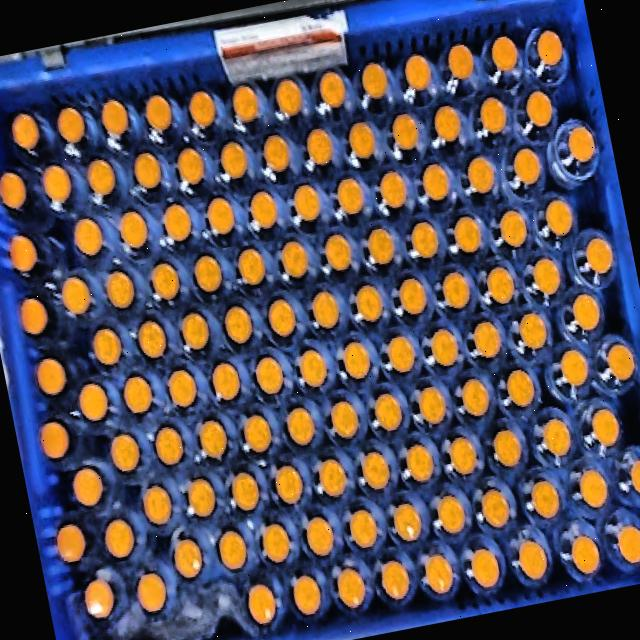vial: (466, 542, 504, 592), (536, 412, 574, 460), (54, 526, 92, 573), (565, 119, 600, 169), (568, 288, 606, 334), (400, 52, 438, 98), (130, 150, 168, 196), (566, 534, 604, 580), (271, 75, 308, 122), (134, 313, 170, 361), (419, 552, 456, 598), (258, 132, 294, 179), (58, 273, 94, 320), (88, 324, 126, 368), (534, 25, 568, 74), (193, 417, 230, 462), (16, 293, 52, 339), (214, 530, 250, 576), (244, 580, 280, 626), (176, 310, 214, 353), (228, 470, 262, 518), (446, 435, 482, 480), (588, 406, 624, 451), (606, 339, 640, 386), (304, 514, 338, 561), (480, 484, 514, 531), (510, 144, 546, 188), (148, 259, 184, 303), (38, 162, 74, 206), (543, 195, 578, 240), (377, 167, 412, 212), (34, 357, 69, 402), (522, 84, 556, 130), (478, 96, 512, 142), (516, 538, 550, 584), (434, 494, 468, 540), (471, 319, 508, 361), (327, 398, 364, 440), (576, 469, 612, 512), (5, 233, 40, 277), (378, 558, 413, 602), (496, 206, 530, 251), (169, 536, 202, 582), (361, 449, 394, 495), (488, 34, 524, 76), (308, 290, 344, 332), (439, 270, 474, 313), (385, 334, 420, 377), (390, 500, 425, 543), (465, 154, 499, 198), (54, 104, 88, 148), (120, 374, 154, 418), (334, 568, 368, 612), (228, 85, 264, 126), (530, 478, 562, 524), (364, 227, 399, 269), (166, 366, 200, 409), (346, 509, 380, 552), (271, 464, 304, 508), (583, 234, 615, 279), (490, 428, 526, 468), (346, 120, 380, 162), (352, 286, 386, 328), (340, 342, 374, 384), (284, 403, 318, 445), (71, 217, 104, 260), (36, 422, 72, 461), (451, 216, 486, 256), (265, 297, 300, 337), (333, 177, 367, 218), (428, 328, 462, 369), (531, 254, 564, 296), (160, 200, 192, 243), (316, 458, 348, 501), (322, 234, 357, 273), (234, 248, 268, 288), (173, 147, 207, 187), (96, 96, 130, 136), (118, 210, 152, 250), (210, 362, 243, 403), (72, 469, 105, 510), (445, 42, 477, 84), (10, 111, 42, 153), (78, 383, 110, 425), (404, 442, 436, 484), (296, 350, 331, 388), (408, 222, 441, 262), (247, 191, 280, 231), (278, 240, 311, 280), (153, 426, 186, 466), (187, 476, 217, 520), (432, 104, 464, 145), (290, 182, 322, 223), (218, 140, 250, 181), (142, 487, 174, 528), (254, 356, 288, 394), (304, 127, 337, 166), (103, 269, 136, 308), (484, 262, 516, 302), (108, 434, 139, 475), (242, 415, 276, 452), (416, 386, 449, 424), (204, 198, 237, 236), (192, 254, 225, 292), (136, 575, 168, 614), (85, 157, 116, 197), (516, 312, 548, 350), (372, 395, 404, 433), (143, 96, 175, 134), (221, 303, 253, 341), (292, 575, 324, 613), (460, 378, 490, 418), (104, 518, 134, 558), (260, 524, 290, 564), (186, 89, 215, 130), (0, 170, 29, 211), (504, 369, 536, 406), (397, 279, 428, 317), (560, 347, 590, 386), (359, 63, 391, 99), (392, 114, 422, 152), (317, 69, 347, 107), (422, 162, 451, 200), (83, 580, 115, 614), (615, 523, 640, 564), (628, 456, 640, 501)
